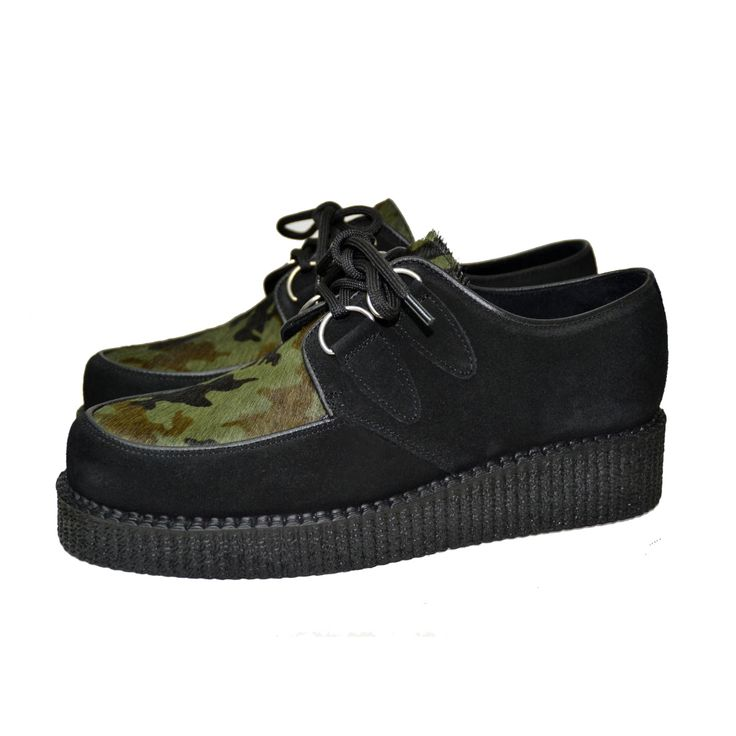gamuza: (65, 212, 669, 521)
